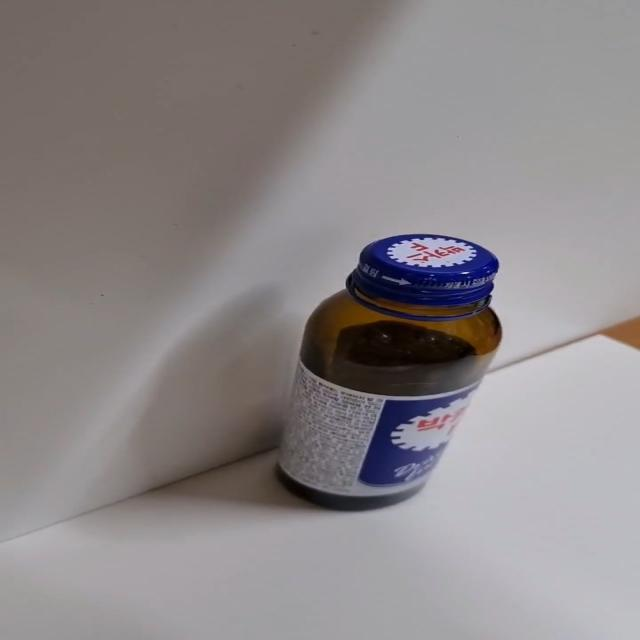Glass: (274, 233, 502, 513)
